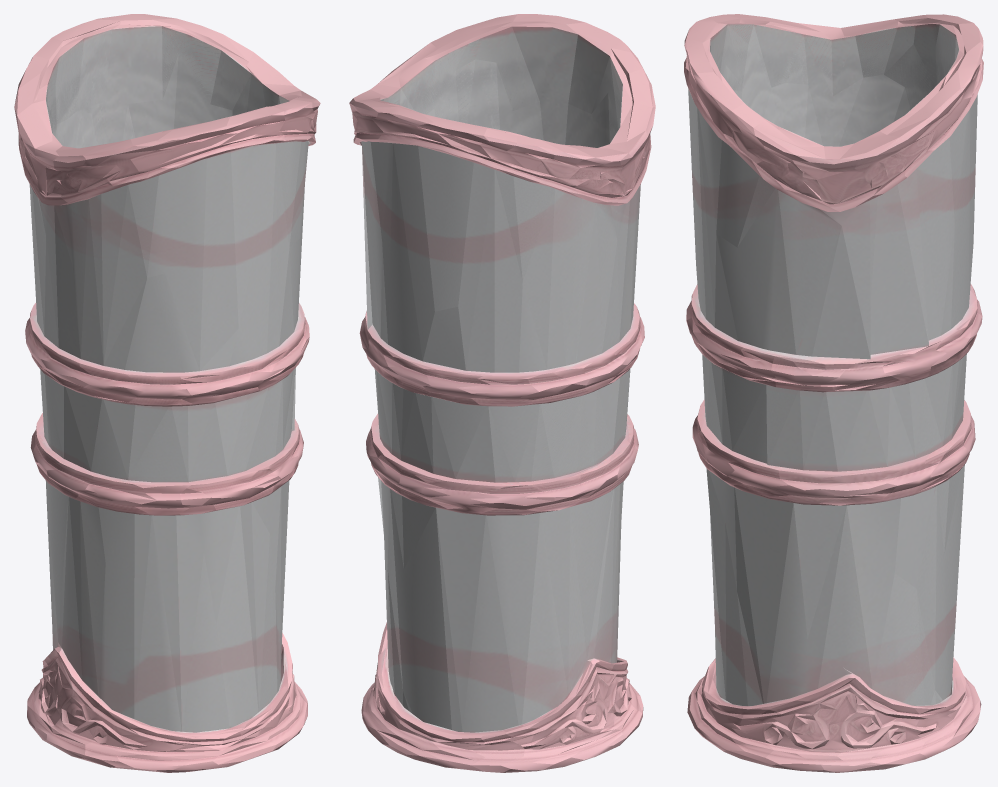
Rendered from diddy_armor_bracer.glb.
3 renders of one model, left to right at view 1: azimuth 30°, elevation 25°; view 2: azimuth 150°, elevation 25°; view 3: azimuth 270°, elevation 25°, orthographic. The views are drawn at different scales.
Parts seen in each view (by area): view 1: Mesh_0; view 2: Mesh_0; view 3: Mesh_0.
Boxes of the visible parts, left/top/right/bottom form: Mesh_0: left=14, top=14, right=320, bottom=772; Mesh_0: left=349, top=14, right=655, bottom=772; Mesh_0: left=684, top=14, right=983, bottom=772.
Bounding box in the file's own units: 0.8108 × 1.9 × 0.7721.
1 material, 1 textured.
